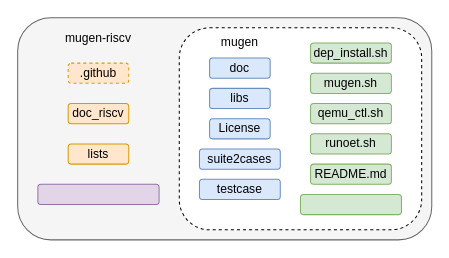
This 449x258 diagram has some shape labels left out. The box of each missing label's shape, as (x1, y1, x2, y2) in pixels:
mugen_riscv.py: (37, 183, 159, 205)
README.en.md: (299, 193, 401, 215)
